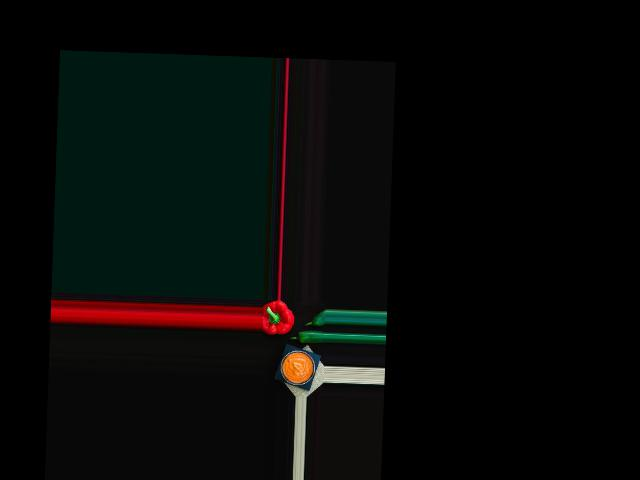bell_pepper: (262, 300, 294, 335)
